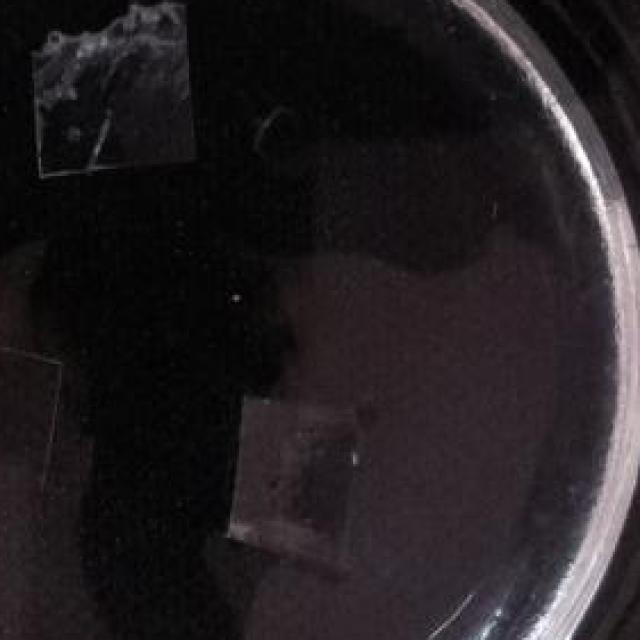Microplastic: (29, 0, 200, 195), (221, 378, 348, 576), (0, 306, 68, 492)
